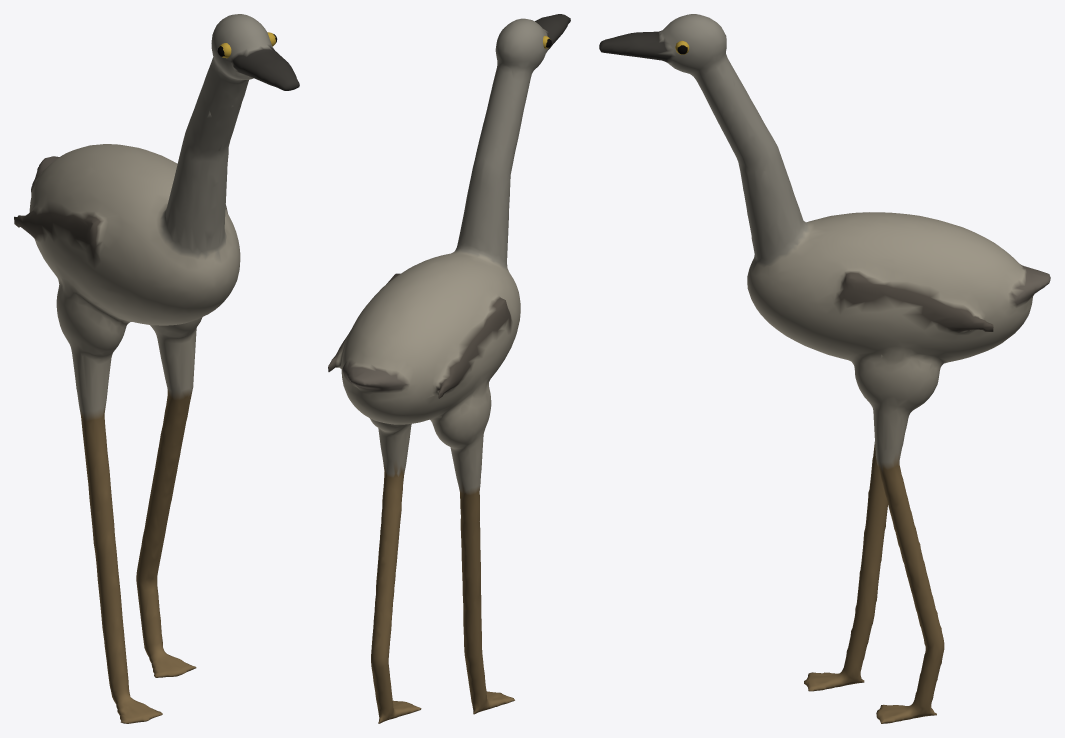
File: PresbyornisPervetus.fbx
3 views of the same model, side by side, from view 1: azimuth 30°, elevation 25°; view 2: azimuth 150°, elevation 25°; view 3: azimuth 270°, elevation 25° (orthographic). The views are drawn at different scales.
Visible parts, largest first — view 1: PresbyornisPervetus; view 2: PresbyornisPervetus; view 3: PresbyornisPervetus.
Boxes of the visible parts, bbox=[...] form: PresbyornisPervetus: bbox=[14, 14, 299, 723]; PresbyornisPervetus: bbox=[328, 14, 570, 723]; PresbyornisPervetus: bbox=[599, 14, 1050, 723].
Bounding box in the file's own units: 0.3186 × 1.58 × 0.942.
